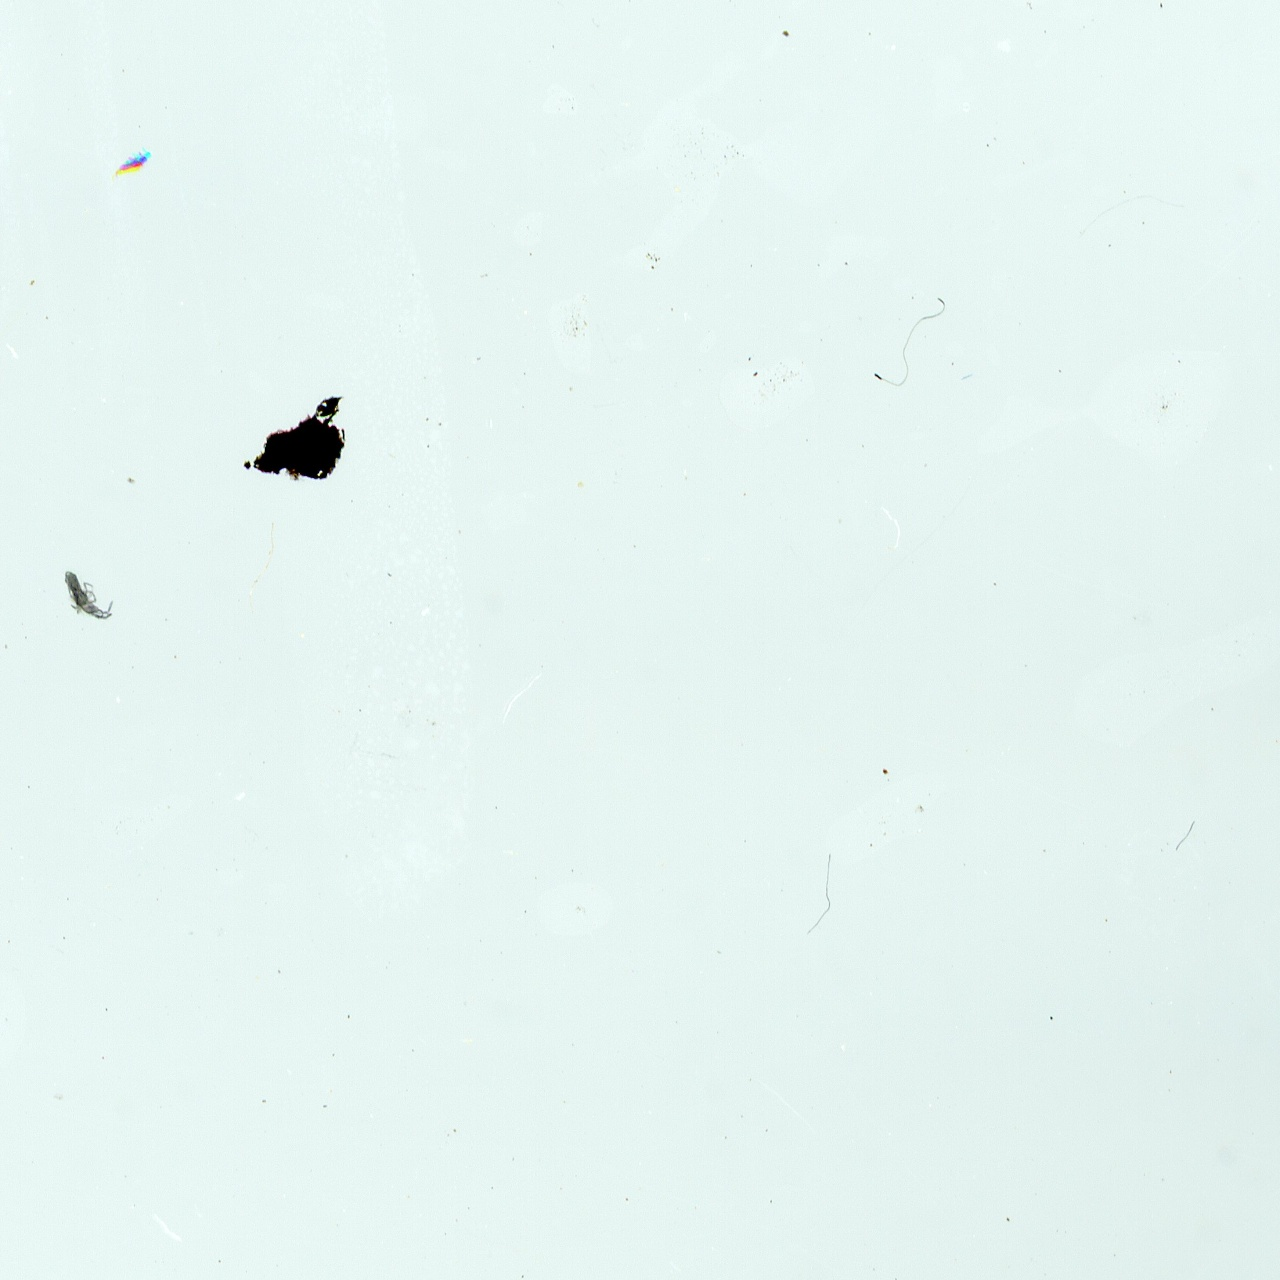arthropod: (53, 561, 124, 626), (102, 144, 154, 185)
